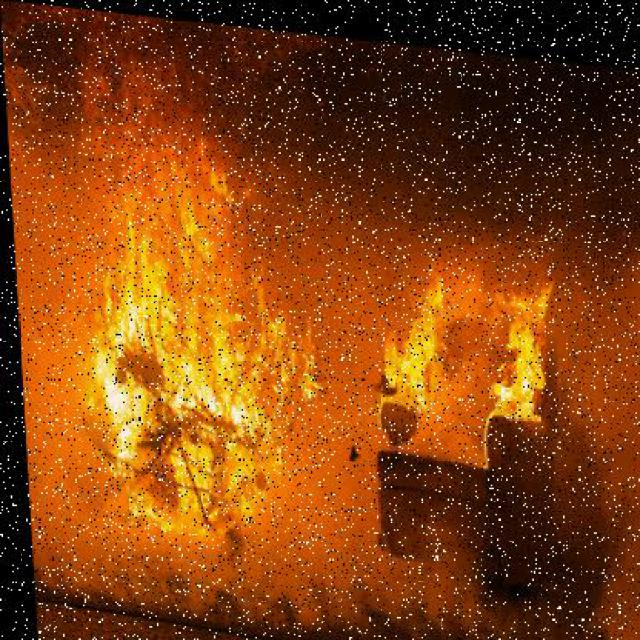fire: (42, 103, 342, 549)
